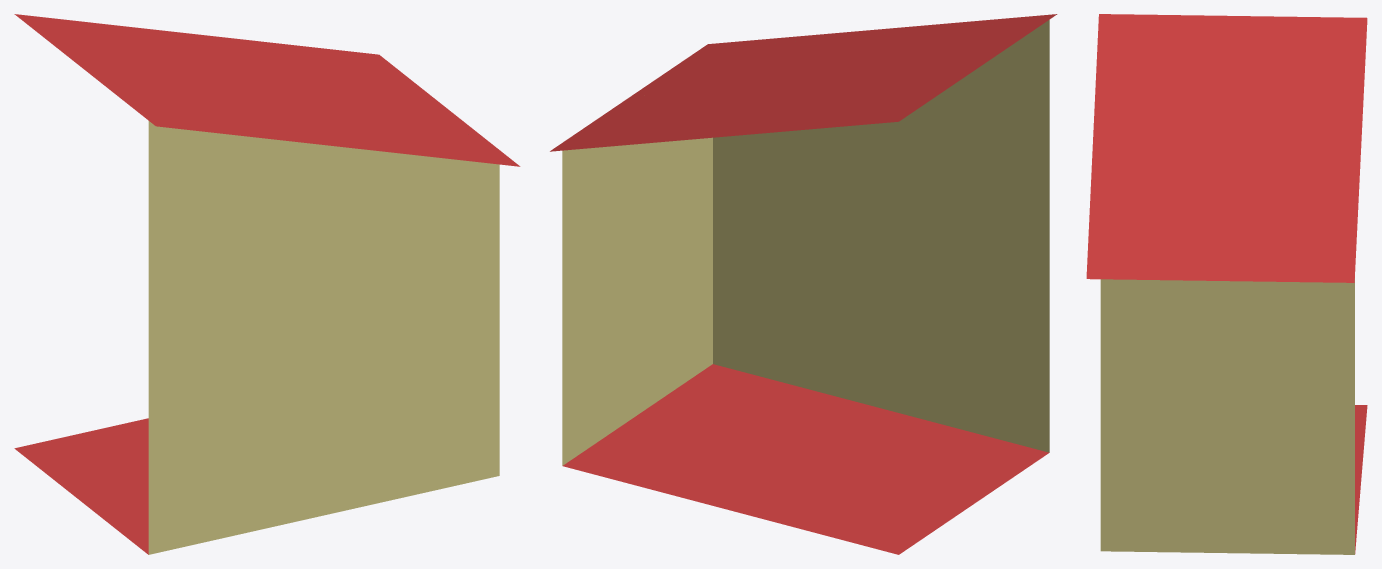
The picture shows the model from 3 angles, left to right: view 1: azimuth 30°, elevation 25°; view 2: azimuth 150°, elevation 25°; view 3: azimuth 270°, elevation 25°; orthographic projection. The views are drawn at different scales.
Bounding box in the file's own units: 6.79 × 5.06 × 7.69.
